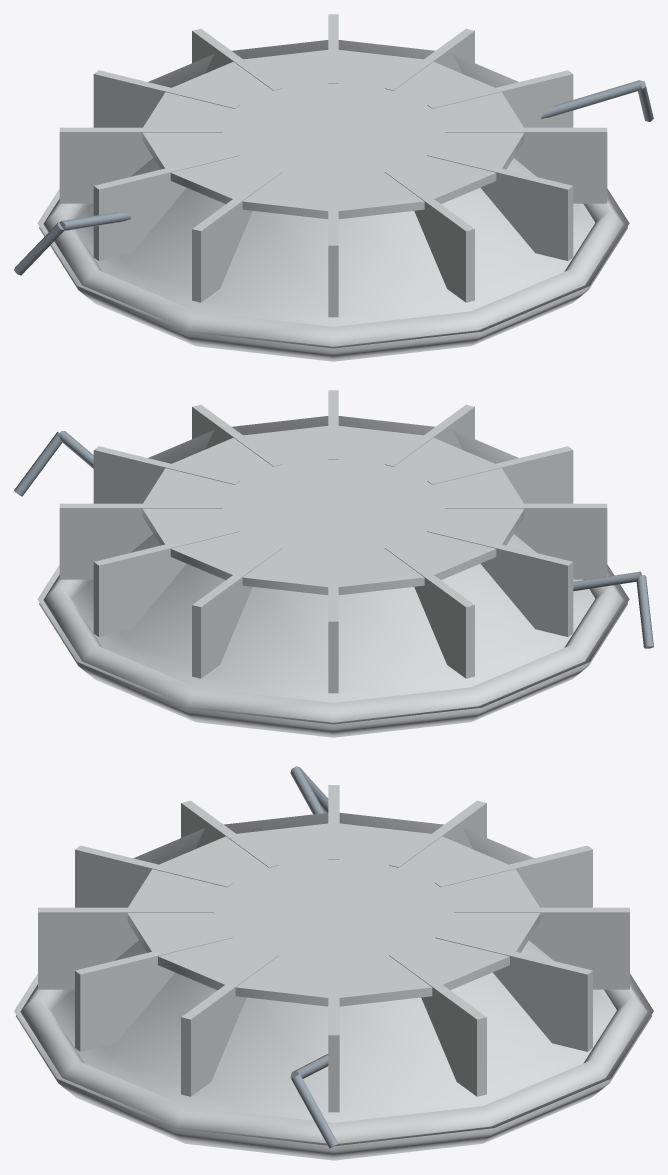
Rendered from source.glb.
3 renders of one model, top to bottom at view 1: azimuth 30°, elevation 25°; view 2: azimuth 150°, elevation 25°; view 3: azimuth 270°, elevation 25°, orthographic. The views are drawn at different scales.
Visible parts, largest first — view 1: 粉末涂层铝壳, 机加工金属; view 2: 粉末涂层铝壳, 机加工金属; view 3: 粉末涂层铝壳, 机加工金属.
Boxes of the visible parts, x1,y1,x2,y2 form: 粉末涂层铝壳: [37, 14, 629, 361]; 机加工金属: [14, 80, 653, 275]; 粉末涂层铝壳: [37, 390, 629, 737]; 机加工金属: [14, 431, 653, 648]; 粉末涂层铝壳: [14, 785, 653, 1160]; 机加工金属: [290, 766, 338, 1148].
Bounding box in the file's own units: 0.284 × 0.0491 × 0.228.
